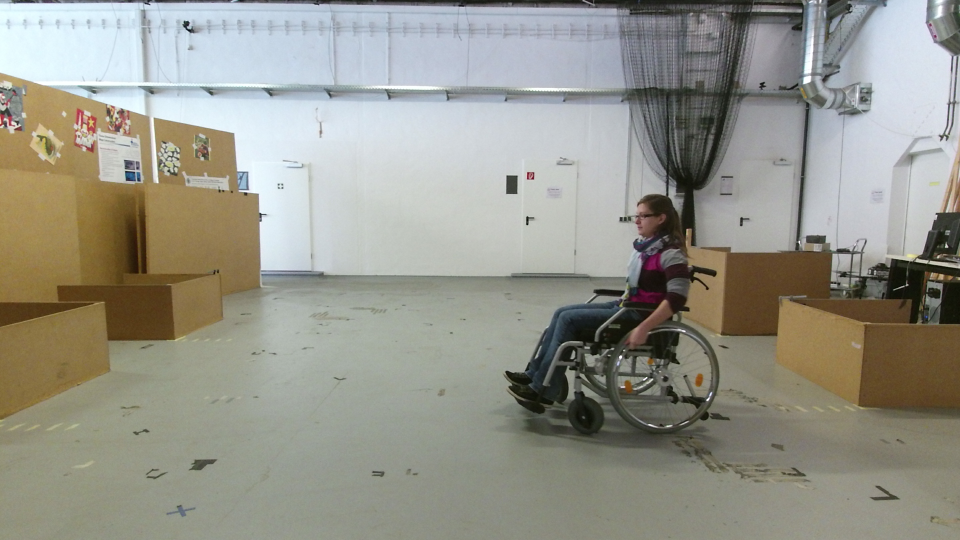wheelchair: (503, 188, 732, 443)
